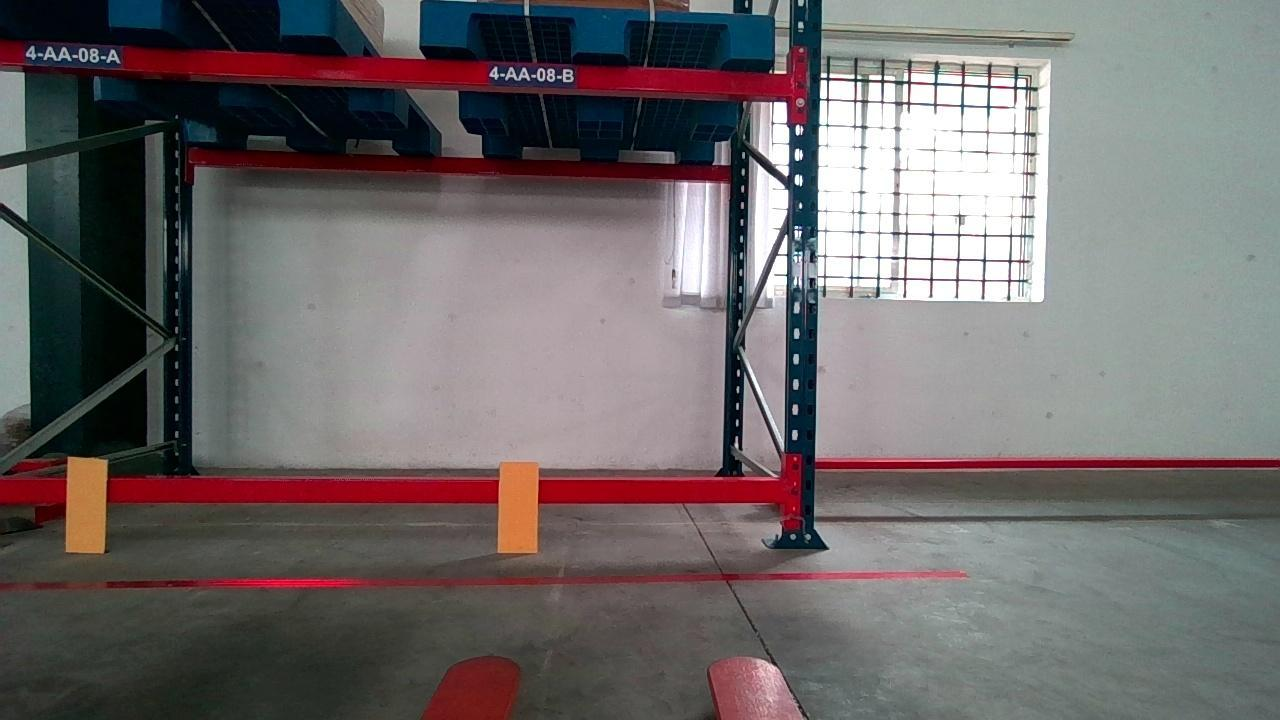h_rack: (1, 42, 791, 98), (2, 477, 784, 503)
orange_strip: (63, 456, 108, 554), (497, 460, 539, 552)
red_line: (1, 565, 970, 591)
small_pallet: (421, 0, 777, 59), (1, 0, 330, 34)
